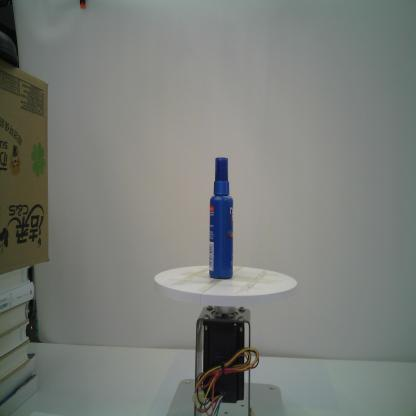Personal Hygiene: (208, 157, 234, 280)
